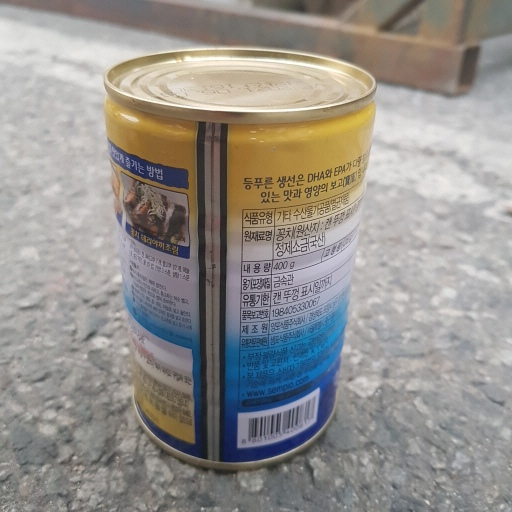Metal_1: (100, 45, 381, 475)
